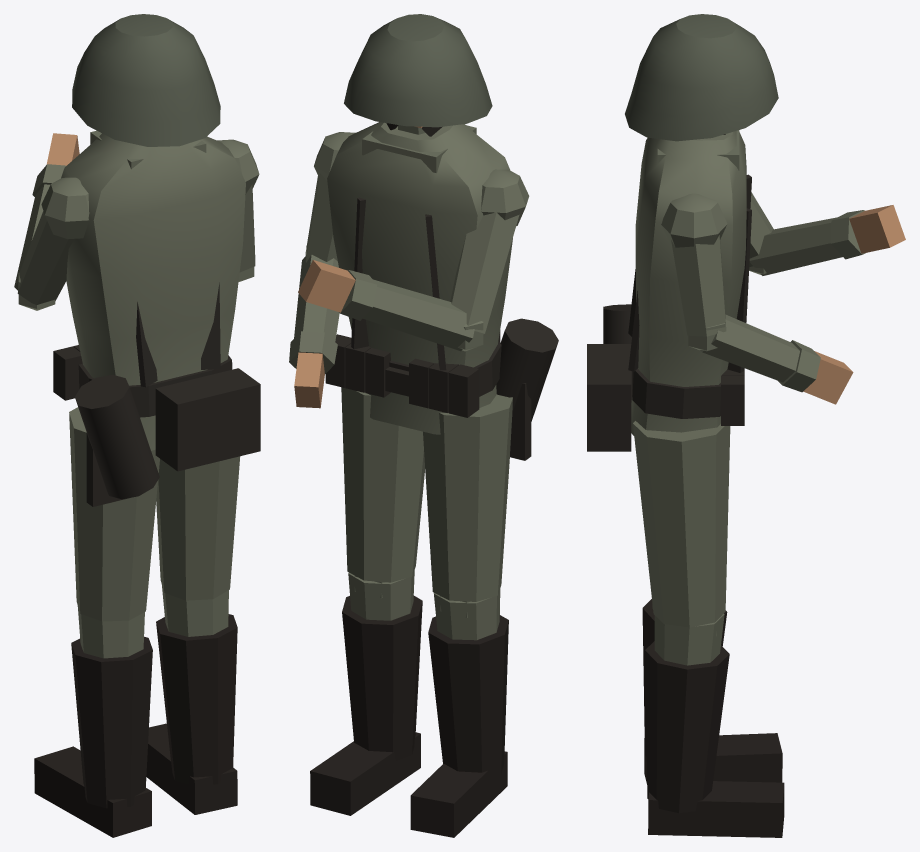
The model's file is soldier_de_stand_rifle.glb.
The picture shows the model from 3 angles, left to right: view 1: azimuth 30°, elevation 25°; view 2: azimuth 150°, elevation 25°; view 3: azimuth 270°, elevation 25°; orthographic projection.
Visible parts, largest first — view 1: soldier_de_stand_rifle; view 2: soldier_de_stand_rifle; view 3: soldier_de_stand_rifle.
Part boxes in pixels (left/top/right/bottom): soldier_de_stand_rifle: left=14, top=14, right=260, bottom=837; soldier_de_stand_rifle: left=289, top=14, right=558, bottom=837; soldier_de_stand_rifle: left=587, top=14, right=905, bottom=837.
Bounding box in the file's own units: 0.5085 × 1.75 × 0.6463.
